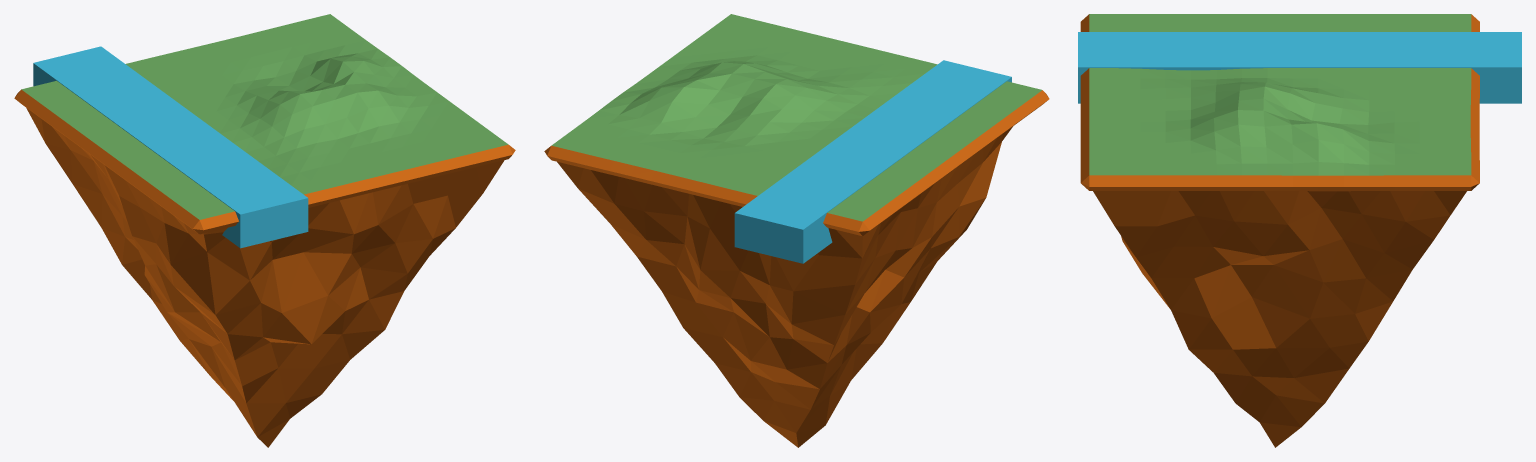
Rendered from platform2.fbx.
The picture shows the model from 3 angles, left to right: view 1: azimuth 30°, elevation 25°; view 2: azimuth 150°, elevation 25°; view 3: azimuth 270°, elevation 25°; orthographic projection. The views are drawn at different scales.
Visible parts, largest first — view 1: Pyramid, Cube, Cube_1; view 2: Pyramid, Cube, Cube_1; view 3: Cube, Pyramid, Cube_1.
Part boxes in pixels (bbox=[...]): Pyramid: bbox=[26, 108, 504, 447]; Cube: bbox=[14, 14, 515, 234]; Cube_1: bbox=[33, 46, 308, 248]; Pyramid: bbox=[557, 126, 1012, 447]; Cube: bbox=[544, 14, 1049, 236]; Cube_1: bbox=[734, 60, 1011, 263]; Cube: bbox=[1080, 14, 1479, 191]; Pyramid: bbox=[1093, 191, 1466, 447]; Cube_1: bbox=[1078, 32, 1521, 103].
Bounding box in the file's own units: 2001 × 2076 × 2223.
